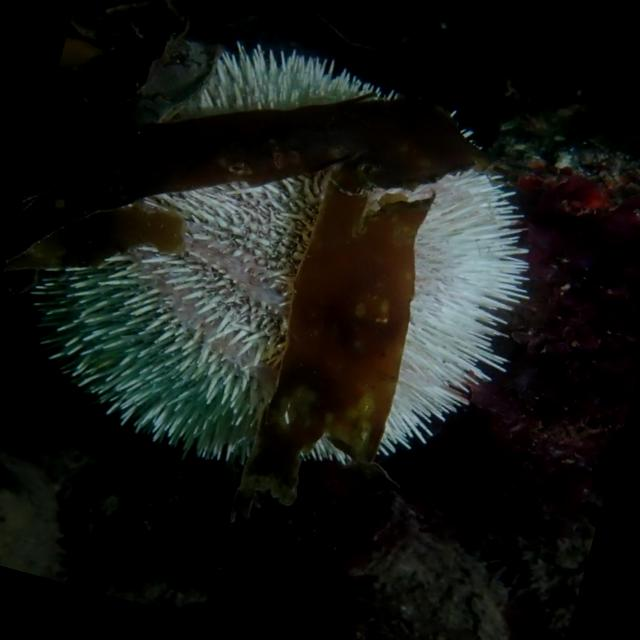Deniz Kestanesi: (0, 0, 577, 532)
